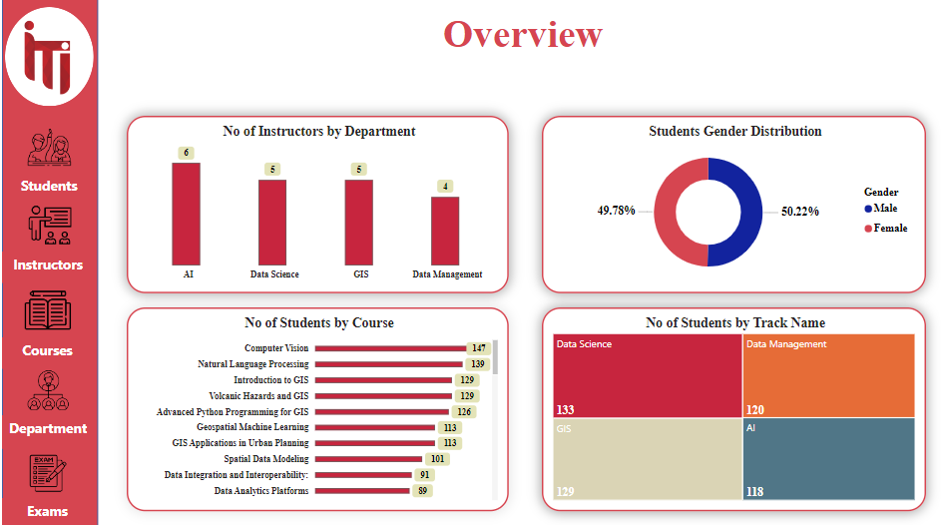

What the dashboard file says about the page in this screenshot:
{"tool":"powerbi","page":{"name":"Overview02","canvas":[1280,720],"ordinal":2},"visuals":[{"type":"donutChart","title":"Students Gender Distribution","fields":{"Y":["Measures (2).No of Students"],"Category":["Fact | student.Gender"]},"box":[735.8,159.8,524.2,241.9],"z":0},{"type":"image","box":[5.8,272.1,119.5,72],"z":0,"group":"g1"},{"type":"image","box":[4.3,167,121,69.1],"z":1000,"group":"g1"},{"type":"treemap","fields":{"Group":["Dim_tracks.TrackName"],"Values":["Measures (2).No of Students"]},"box":[735.8,420.5,524.2,277.9],"z":1000},{"type":"textbox","box":[10.1,236.1,109.4,36],"z":2000,"group":"g1"},{"type":"clusteredBarChart","title":"No of Students by Course","fields":{"Category":["Dim_courses.CourseName"],"Y":["Measures (2).No of Students"]},"box":[169.9,420.5,521.3,277.9],"z":2000},{"type":"clusteredColumnChart","title":"No of Instructors by Department","fields":{"Category":["Dim_Department.Dept_Name"],"Y":["Measures (2).No of Instructors"]},"box":[169.9,159.8,521.3,241.9],"z":3000},{"type":"textbox","box":[0,344.1,125.3,43.2],"z":3000,"group":"g1"},{"type":"textbox","box":[455,11.5,512.6,97.9],"z":4000},{"type":"image","box":[0,387.3,125.3,73.4],"z":4000,"group":"g1"},{"type":"shape","box":[0,0,131,720],"z":5000},{"type":"image","box":[0,613.4,125.3,66.2],"z":5000,"group":"g1"},{"type":"shape","box":[4.3,11.5,121,135.4],"z":6000},{"type":"textbox","box":[0,460.8,123.8,43.2],"z":6000,"group":"g1"},{"type":"image","box":[0,11.5,125.3,123.8],"z":7000},{"type":"textbox","box":[0,679.6,123.8,40.3],"z":7000,"group":"g1"},{"type":"group","id":"g1","title":"Group 1","box":[0,167,125.3,553],"z":8000},{"type":"image","box":[0,501.1,125.3,66.2],"z":8000,"group":"g1"},{"type":"textbox","box":[0,567.3,125.3,46.1],"z":9000,"group":"g1"}]}

Visuals, with their boxes on the page's 1280x720 design canvas (x1, y1, x2, y2). These are canvas units, not pixel positions in the 946x525 screenshot, which may show the page scaled, cropped or inside an application window:
"Students Gender Distribution" donutChart: bbox(736, 160, 1260, 402)
image: bbox(6, 272, 125, 344)
image: bbox(4, 167, 125, 236)
treemap - Dim_tracks.TrackName x Measures (2).No of Students: bbox(736, 420, 1260, 698)
textbox: bbox(10, 236, 120, 272)
"No of Students by Course" clusteredBarChart: bbox(170, 420, 691, 698)
"No of Instructors by Department" clusteredColumnChart: bbox(170, 160, 691, 402)
textbox: bbox(0, 344, 125, 387)
textbox: bbox(455, 12, 968, 109)
image: bbox(0, 387, 125, 461)
shape: bbox(0, 0, 131, 720)
image: bbox(0, 613, 125, 680)
shape: bbox(4, 12, 125, 147)
textbox: bbox(0, 461, 124, 504)
image: bbox(0, 12, 125, 135)
textbox: bbox(0, 680, 124, 720)
"Group 1" group: bbox(0, 167, 125, 720)
image: bbox(0, 501, 125, 567)
textbox: bbox(0, 567, 125, 613)
